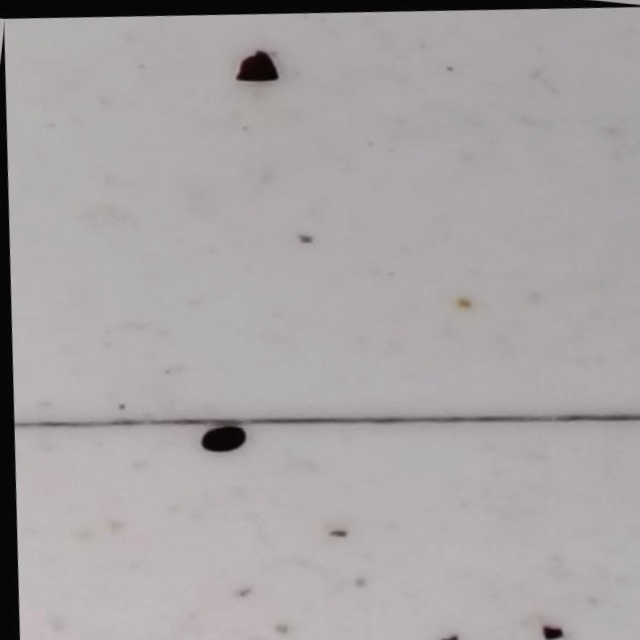varroa: (189, 414, 242, 452), (228, 43, 281, 80)
